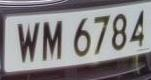4: (128, 8, 149, 50)
6: (71, 15, 94, 63)
7: (91, 13, 111, 57)
8: (110, 11, 130, 54)
M: (41, 17, 66, 67)
W: (17, 19, 42, 68)
